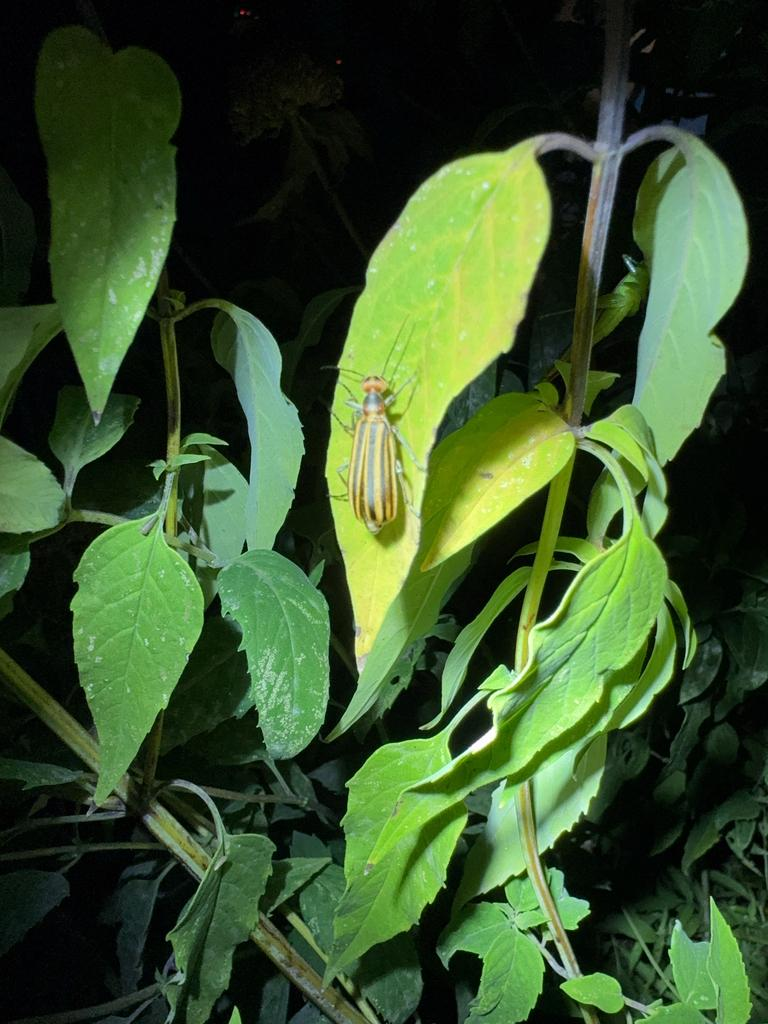blister_beetle: (269, 304, 466, 575)
